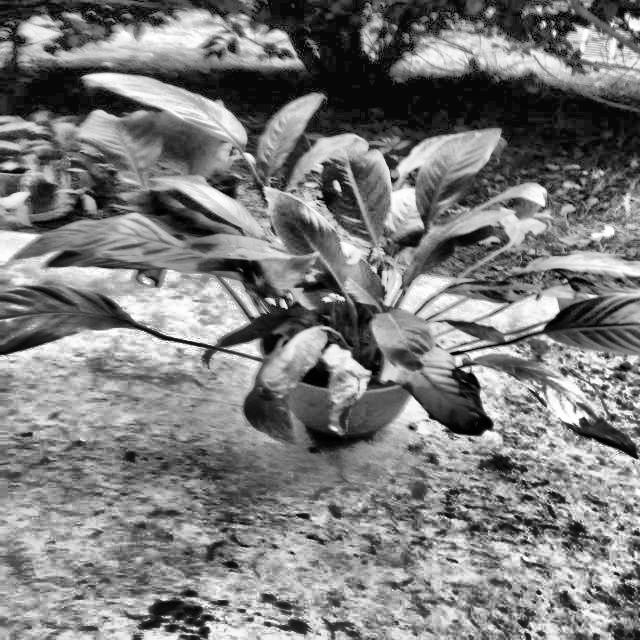plants: (0, 68, 640, 464), (3, 274, 255, 374), (354, 288, 511, 444), (505, 338, 640, 466), (252, 310, 356, 464)
